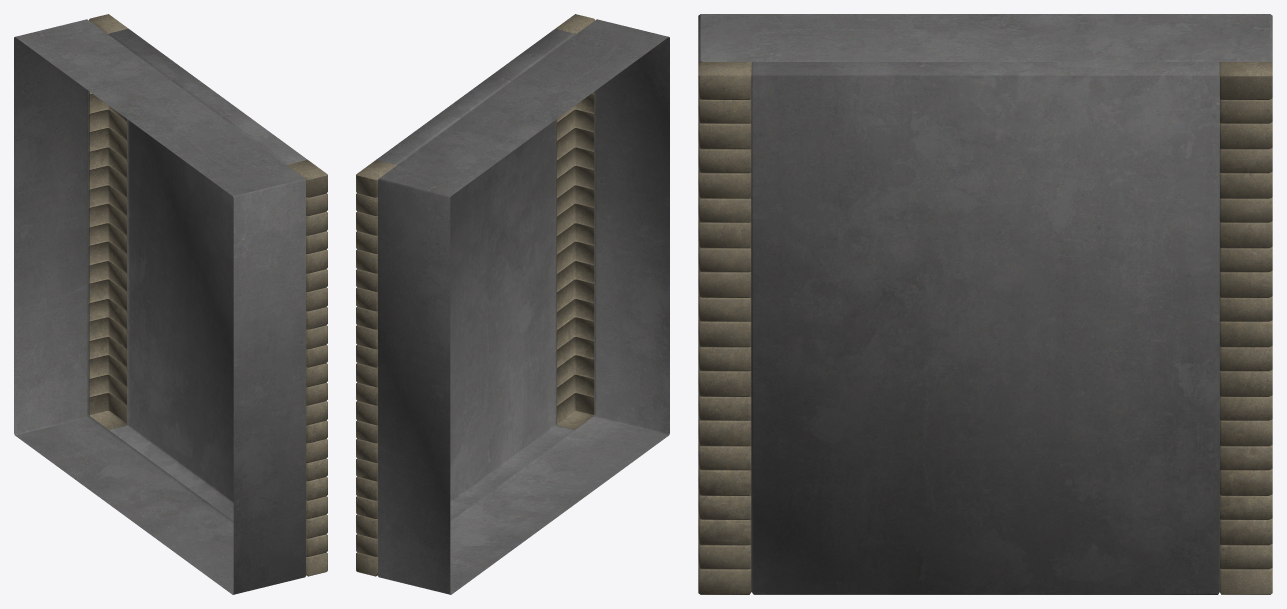
File: cP_Pathway02_Straight.dae
3 views of the same model, side by side, from view 1: azimuth 30°, elevation 25°; view 2: azimuth 150°, elevation 25°; view 3: azimuth 270°, elevation 25° (orthographic). The views are drawn at different scales.
Parts seen in each view (by area): view 1: cP_Pathway02_Straight.001; view 2: cP_Pathway02_Straight.001; view 3: cP_Pathway02_Straight.001.
Part boxes in pixels (x1,y1,x2,y2): cP_Pathway02_Straight.001: (14,14,327,594); cP_Pathway02_Straight.001: (356,14,669,594); cP_Pathway02_Straight.001: (698,14,1272,594).
Size of the model in its own units: 0.5 by 2 by 2.01.
